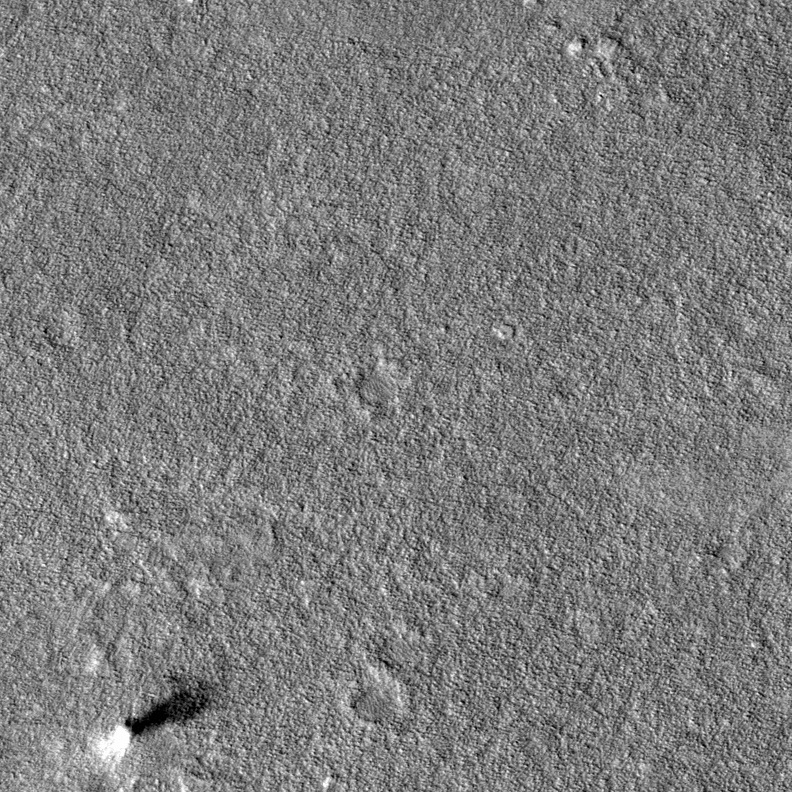dust_devil: (88, 677, 217, 767)
